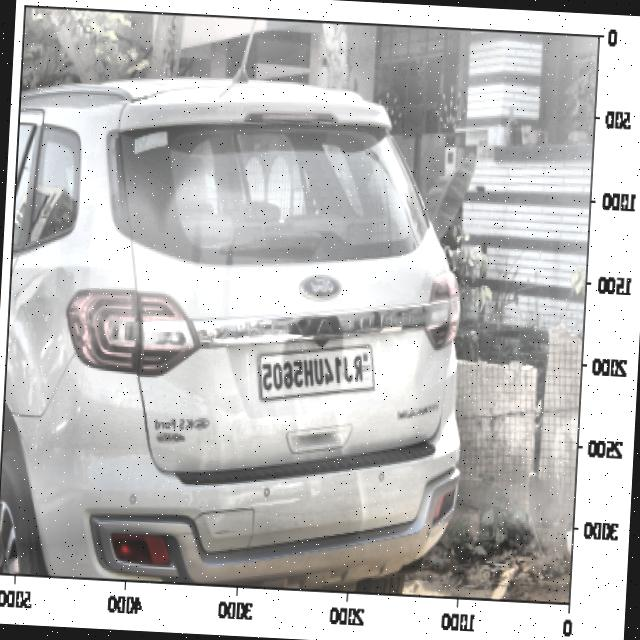license_plate: (258, 346, 368, 404)
